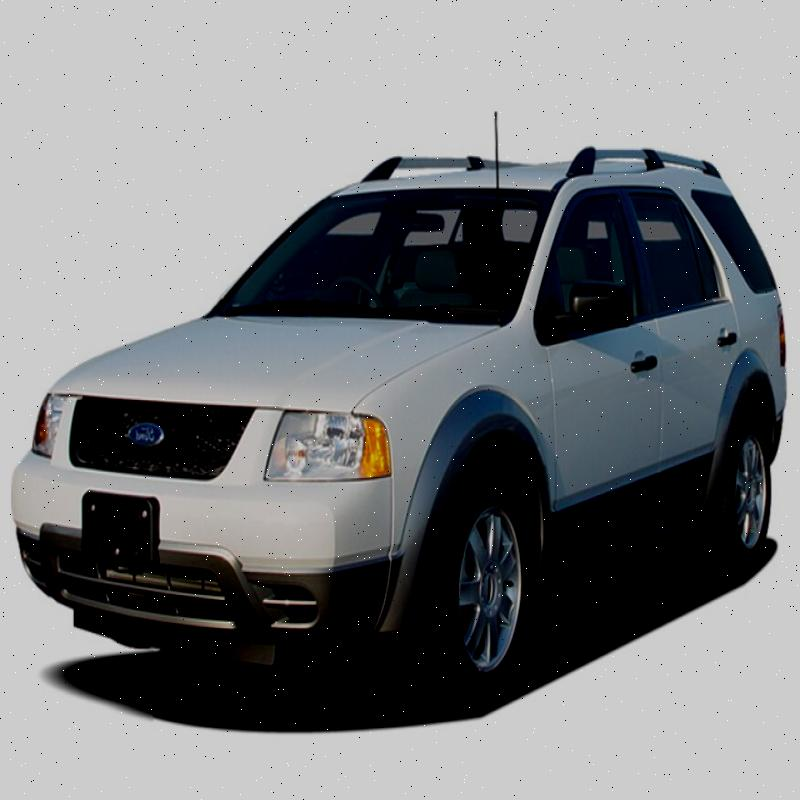car: (3, 125, 780, 716)
